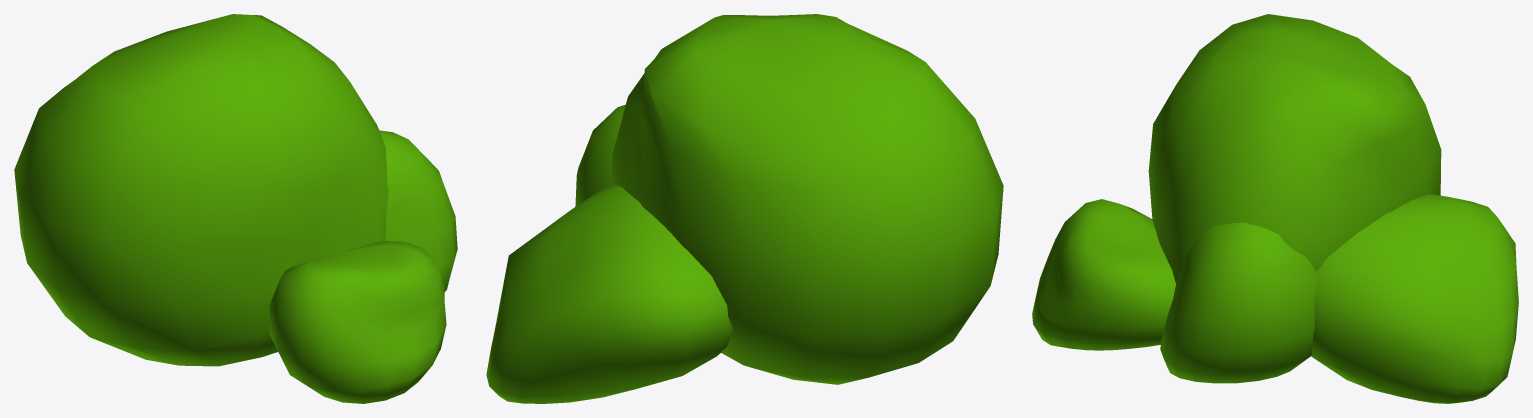
Rendered from Bush.fbx.
3 views of the same model, side by side, from view 1: azimuth 30°, elevation 25°; view 2: azimuth 150°, elevation 25°; view 3: azimuth 270°, elevation 25° (orthographic). The views are drawn at different scales.
Visible parts, largest first — view 1: Object.001; view 2: Object.001; view 3: Object.001.
Part boxes in pixels (bbox=[...]): Object.001: bbox=[14, 14, 457, 403]; Object.001: bbox=[486, 14, 1003, 403]; Object.001: bbox=[1032, 14, 1518, 403].
Size of the model in its own units: 60.78 by 45.59 by 70.08.
